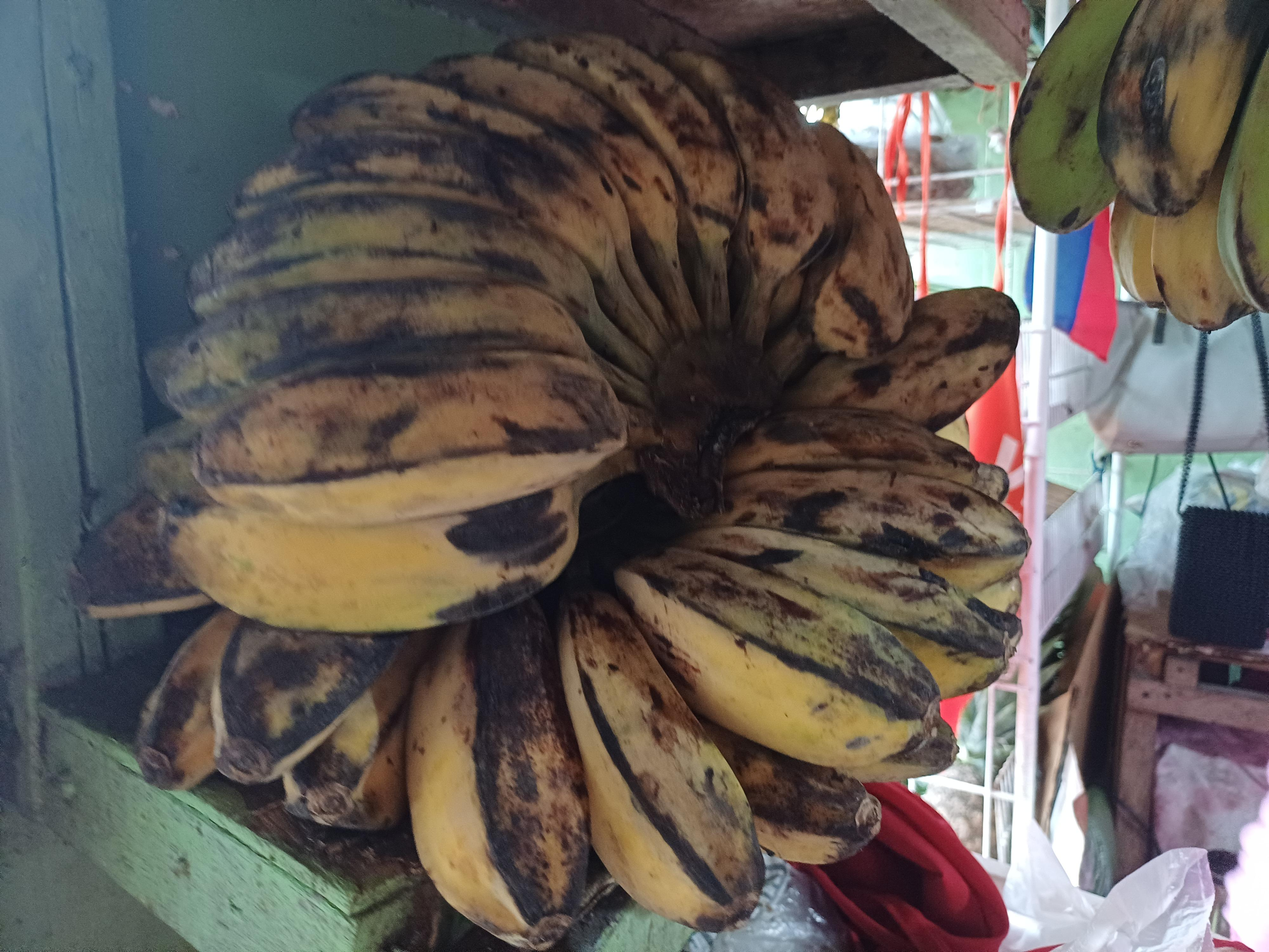ripe: (149, 34, 913, 633), (407, 288, 1028, 948), (136, 606, 437, 830)
underripe: (1006, 0, 1269, 330)
